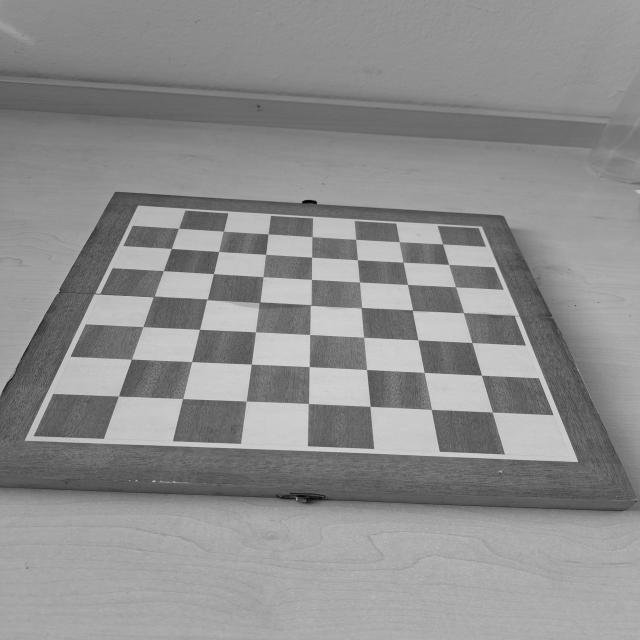chess-table-corners: (557, 448, 581, 466), (22, 428, 48, 444), (468, 223, 487, 235), (134, 204, 148, 214)
